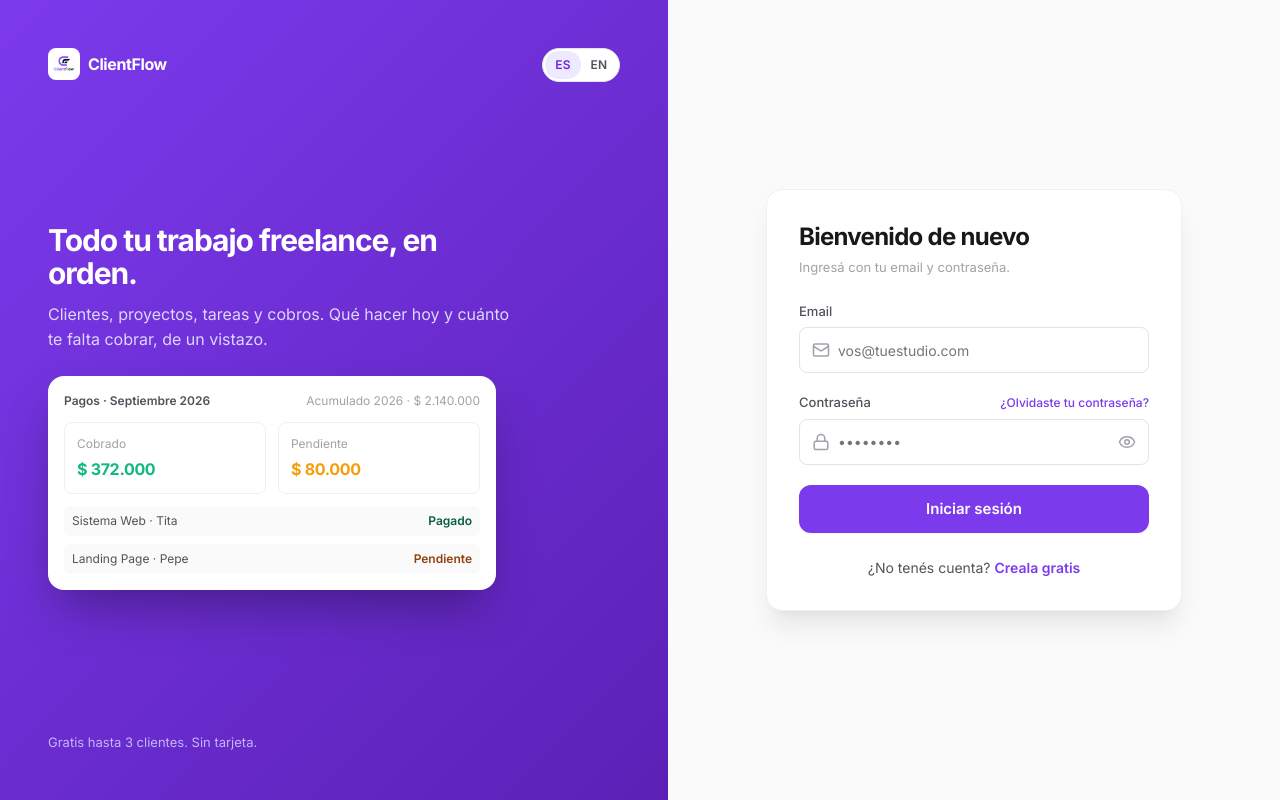
it: Login — language preference › shows the ES|EN switch and switches the form to English in place, remembering the choice
Check: the heading "Bienvenido de nuevo" is shown, box [799,222,1029,251]
What coordinates should you click on to do the following:
click the button with aria-label "English"
I would click on:
 (599, 65)
Its box is [581,51,617,79].
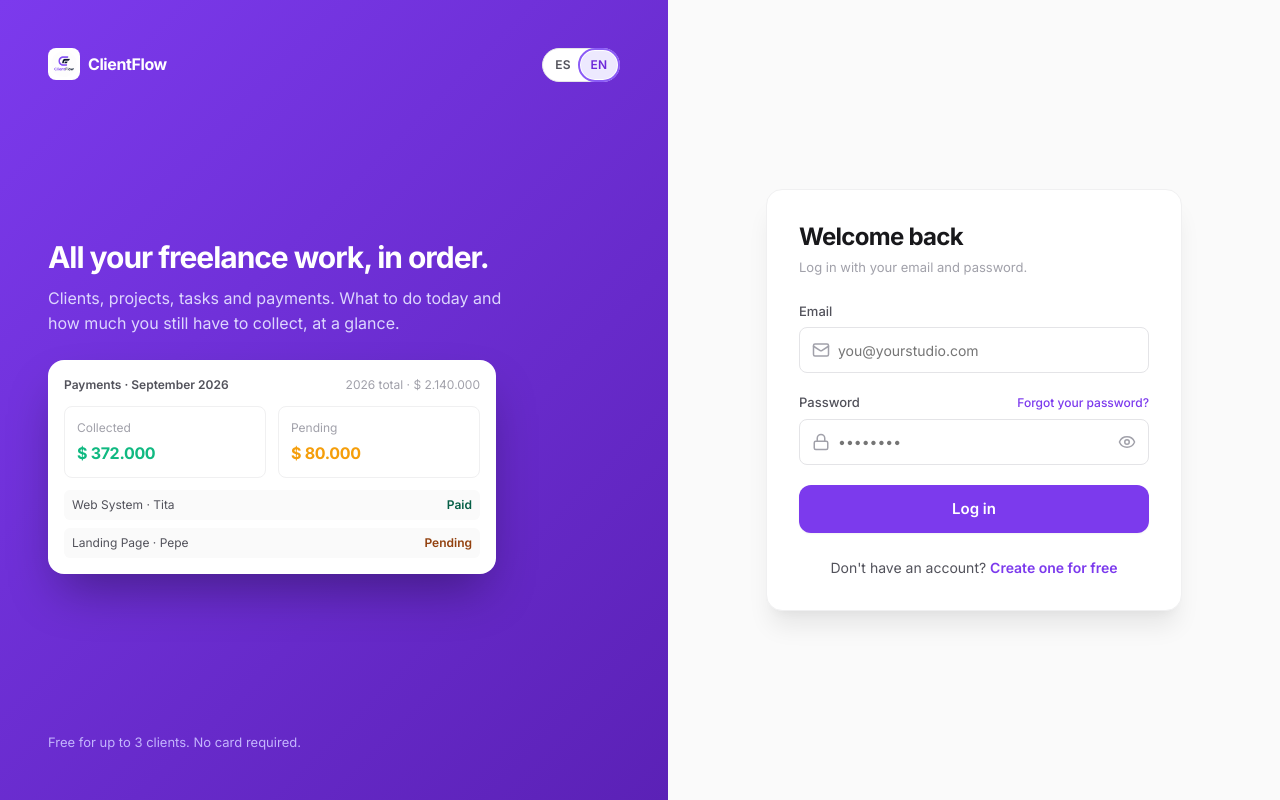
Check: the password field labelled "Password" is shown, box [838,420,1110,464]
Check: the heading "Welcome back" is shown, box [799,222,963,251]
Check: the button "Log in" is shown, box [799,485,1149,533]
